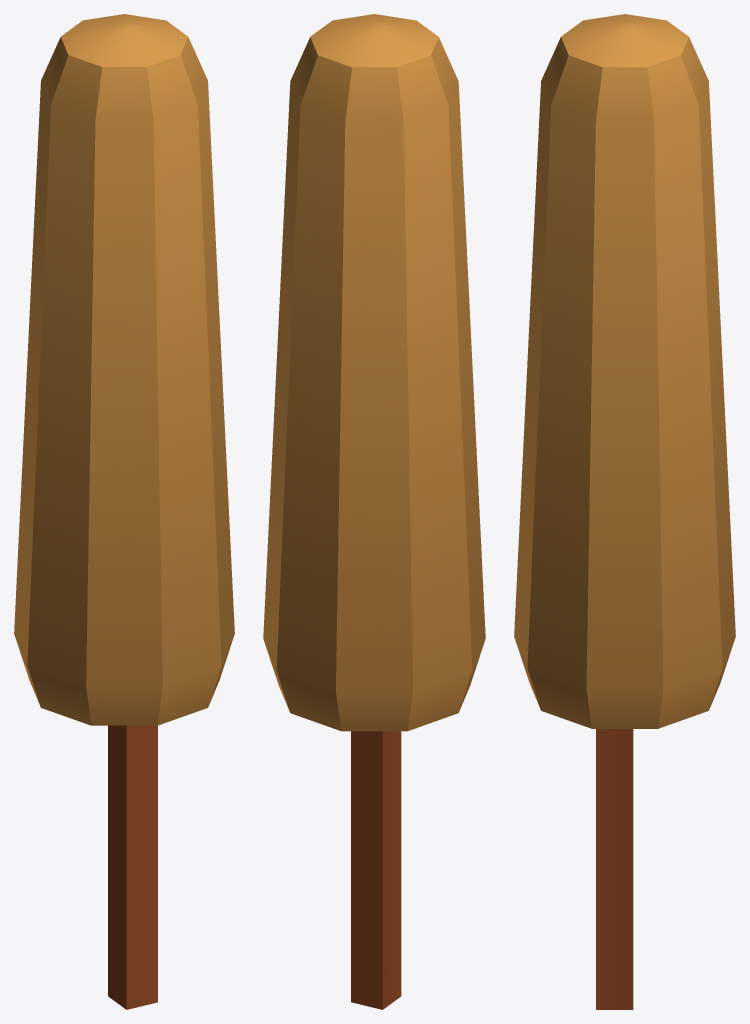
The model's file is MSH_Elote.fbx.
3 renders of one model, left to right at view 1: azimuth 30°, elevation 25°; view 2: azimuth 150°, elevation 25°; view 3: azimuth 270°, elevation 25°, orthographic.
Visible parts, largest first — view 1: Object006; view 2: Object006; view 3: Object006.
Boxes of the visible parts, x1,y1,x2,y2 form: Object006: (14,14,234,1009); Object006: (263,14,485,1009); Object006: (514,14,735,1009).
Size of the model in its own units: 3 by 14.76 by 3.05.
